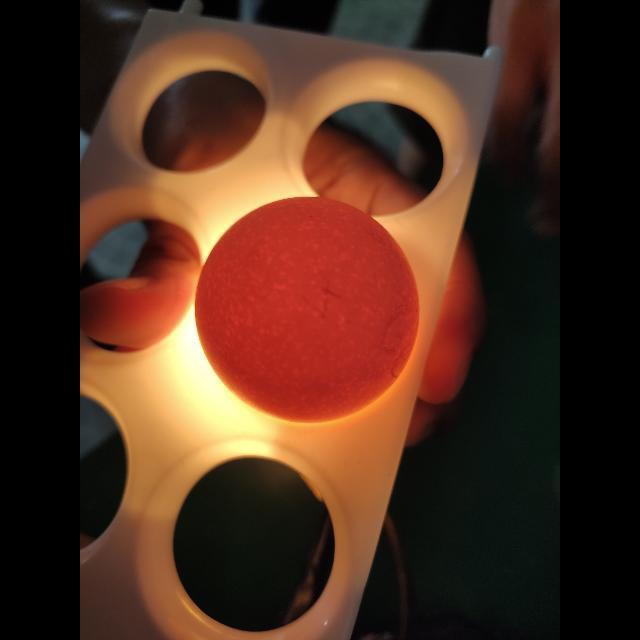Infertile: (197, 194, 416, 424)
